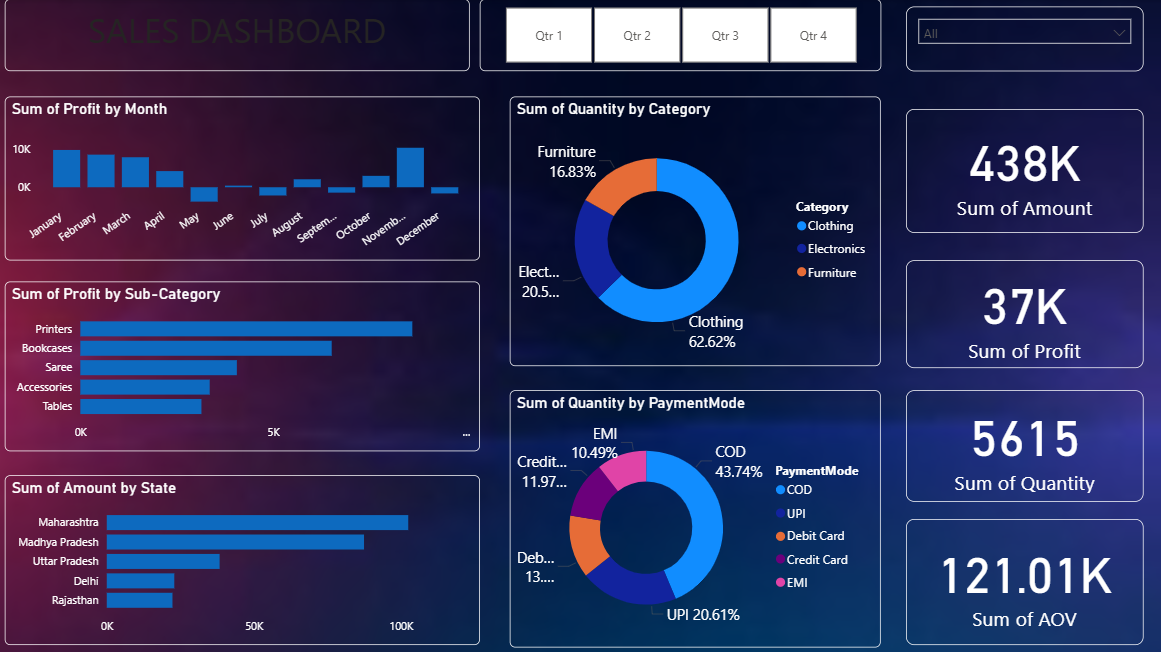

The page's visual inventory and layout, read from the dashboard file:
{"tool":"powerbi","page":{"name":"Page 1","canvas":[1280,720],"ordinal":0},"visuals":[{"type":"columnChart","fields":{"Category":["Orders.Order Date.Variation.Date Hierarchy.Month"],"Y":["Sum(Details.Profit)"]},"box":[9.6,107,521.4,179.8],"z":1000},{"type":"barChart","fields":{"Category":["Details.Sub-Category"],"Y":["Sum(Details.Profit)"]},"box":[9.6,310.1,521.4,186.6],"z":2000},{"type":"donutChart","fields":{"Category":["Details.Category"],"Y":["Sum(Details.Quantity)"]},"box":[564,107,407.5,296.4],"z":3000},{"type":"donutChart","fields":{"Y":["Sum(Details.Quantity)"],"Category":["Details.PaymentMode"]},"box":[564,429.5,407.5,282.7],"z":4000},{"type":"card","fields":{"Values":["Sum(Details.Amount)"]},"box":[999,120.8,260.7,135.8],"z":5000},{"type":"card","fields":{"Values":["Sum(Details.Profit)"]},"box":[999,286.8,260.7,118],"z":6000},{"type":"card","fields":{"Values":["Sum(Details.Quantity)"]},"box":[999,429.5,260.7,122.1],"z":7000},{"type":"card","fields":{"Values":["Sum(Details.AOV)"]},"box":[999,570.8,260.7,138.6],"z":8000},{"type":"barChart","fields":{"Category":["Orders.State"],"Y":["Sum(Details.Amount)"]},"box":[9.6,522.8,521.4,186.6],"z":9000},{"type":"slicer","fields":{"Values":["Orders.Order Date.Variation.Date Hierarchy.Quarter"]},"box":[531,0,440.5,79.6],"z":9001},{"type":"textbox","box":[9.6,0,510.5,79.6],"z":9002},{"type":"slicer","fields":{"Values":["Orders.State"]},"box":[999,8.2,260.7,71.4],"z":9003}]}

Visuals, with their boxes in screenshot pixels (x1, y1, x2, y2), scaled from the page's 1280x720 canvas onto the 1161x652 screenshot:
columnChart - Orders.Order Date.Variation.Date Hierarchy.Month x Sum(Details.Profit): (9, 97, 482, 260)
barChart - Details.Sub-Category x Sum(Details.Profit): (9, 281, 482, 450)
donutChart - Details.Category x Sum(Details.Quantity): (512, 97, 881, 365)
donutChart - Sum(Details.Quantity) x Details.PaymentMode: (512, 389, 881, 645)
card - Sum(Details.Amount): (906, 109, 1143, 232)
card - Sum(Details.Profit): (906, 260, 1143, 367)
card - Sum(Details.Quantity): (906, 389, 1143, 500)
card - Sum(Details.AOV): (906, 517, 1143, 642)
barChart - Orders.State x Sum(Details.Amount): (9, 473, 482, 642)
slicer - Orders.Order Date.Variation.Date Hierarchy.Quarter: (482, 0, 881, 72)
textbox: (9, 0, 472, 72)
slicer - Orders.State: (906, 7, 1143, 72)
